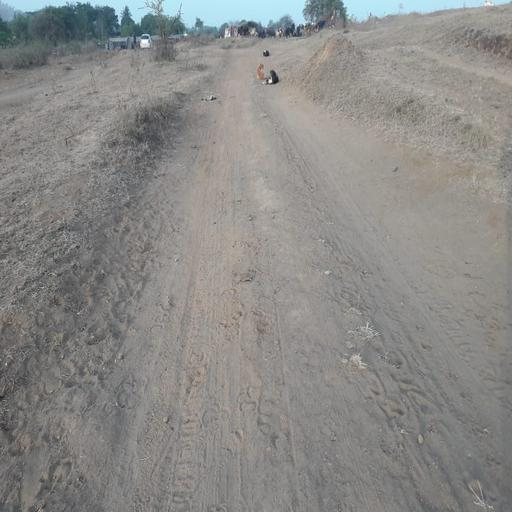vehicle_track: (266, 89, 512, 512), (100, 76, 307, 512)
